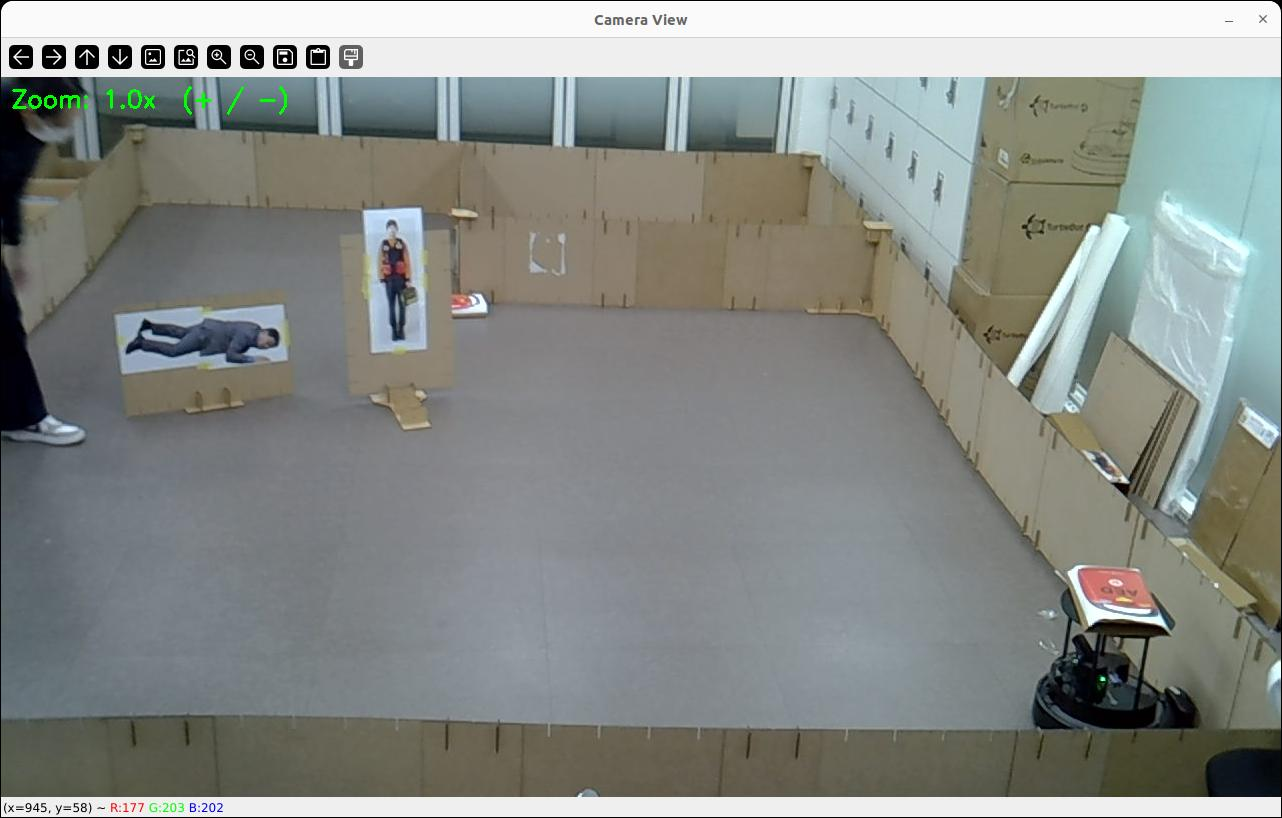AED: (1066, 565, 1170, 637), (453, 294, 488, 317)
Patient: (126, 318, 278, 363)
Responder: (379, 220, 409, 339)
Robot: (1033, 586, 1196, 728)
